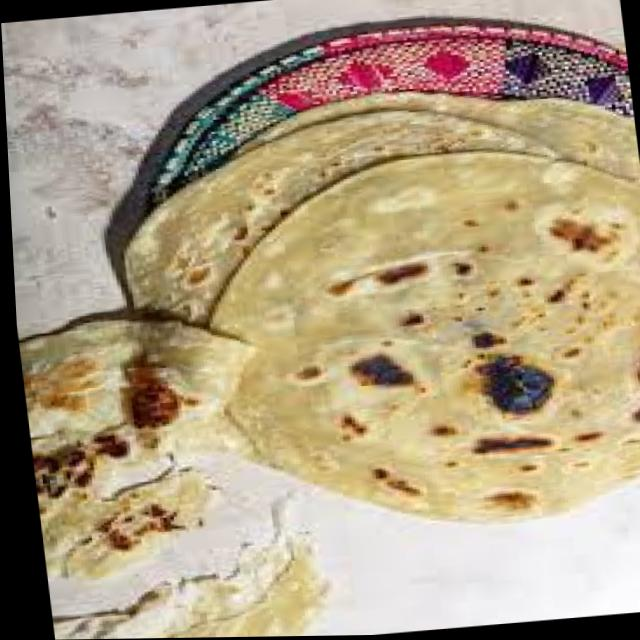CHAPATHI: (120, 91, 640, 518)
